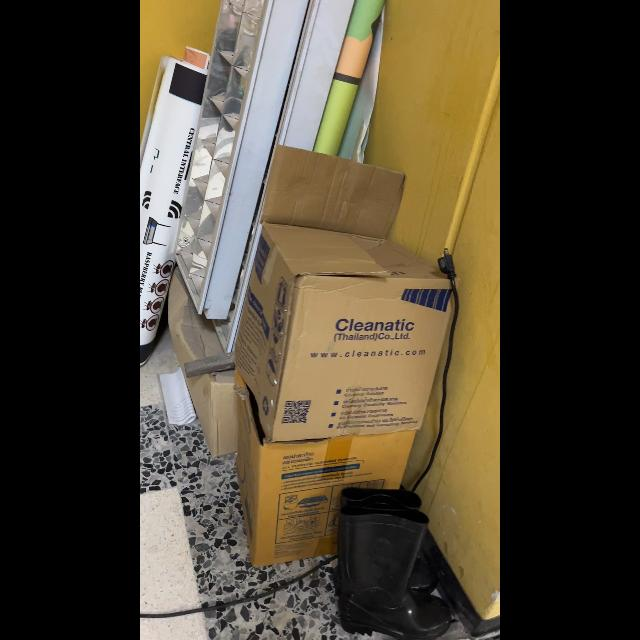cardboard_box: (232, 144, 462, 446), (226, 362, 418, 566)
